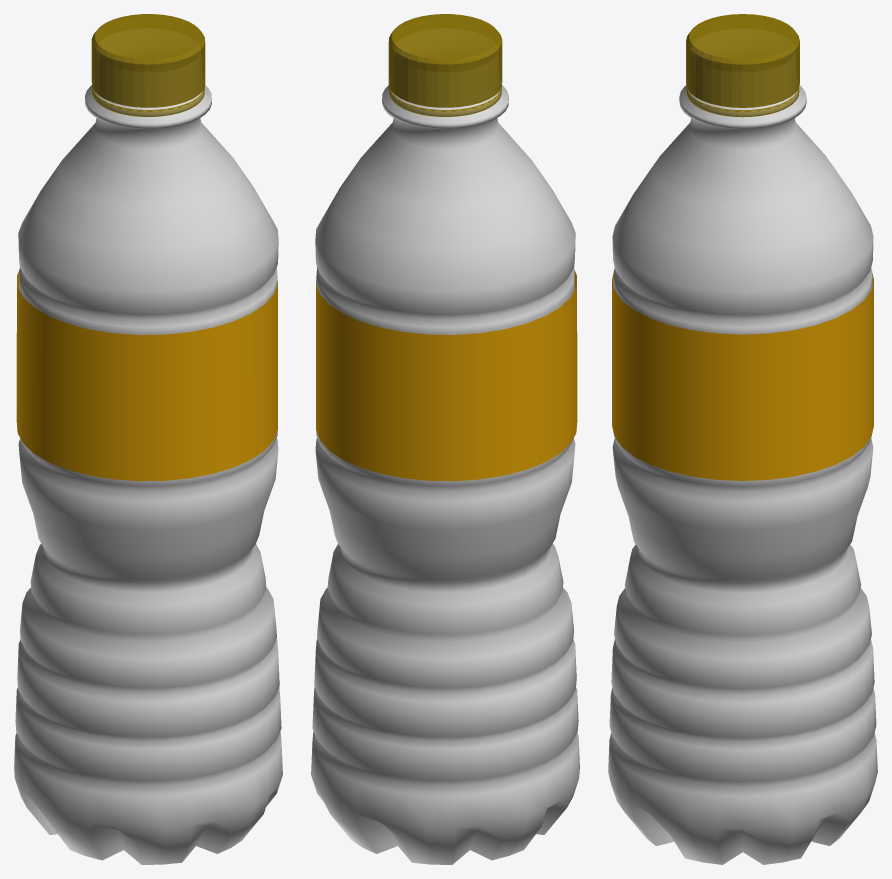
Rendered from BottleYellow_sticky.glb.
The picture shows the model from 3 angles, left to right: view 1: azimuth 30°, elevation 25°; view 2: azimuth 150°, elevation 25°; view 3: azimuth 270°, elevation 25°; orthographic projection.
Visible parts, largest first — view 1: bottle, label, cap, cap2; view 2: bottle, label, cap, cap2; view 3: bottle, label, cap, cap2.
Part boxes in pixels (x1,y1,x2,y2): bottle: (14,85,282,864); label: (16,270,277,481); cap: (91,14,205,107); cap2: (92,87,204,116); bottle: (311,85,579,864); label: (316,270,577,481); cap: (388,14,502,107); cap2: (389,87,501,116); bottle: (608,85,877,864); label: (612,271,873,480); cap: (686,14,799,107); cap2: (686,88,799,117).
Bounding box in the file's own units: 0.0652 × 0.2097 × 0.0652.
